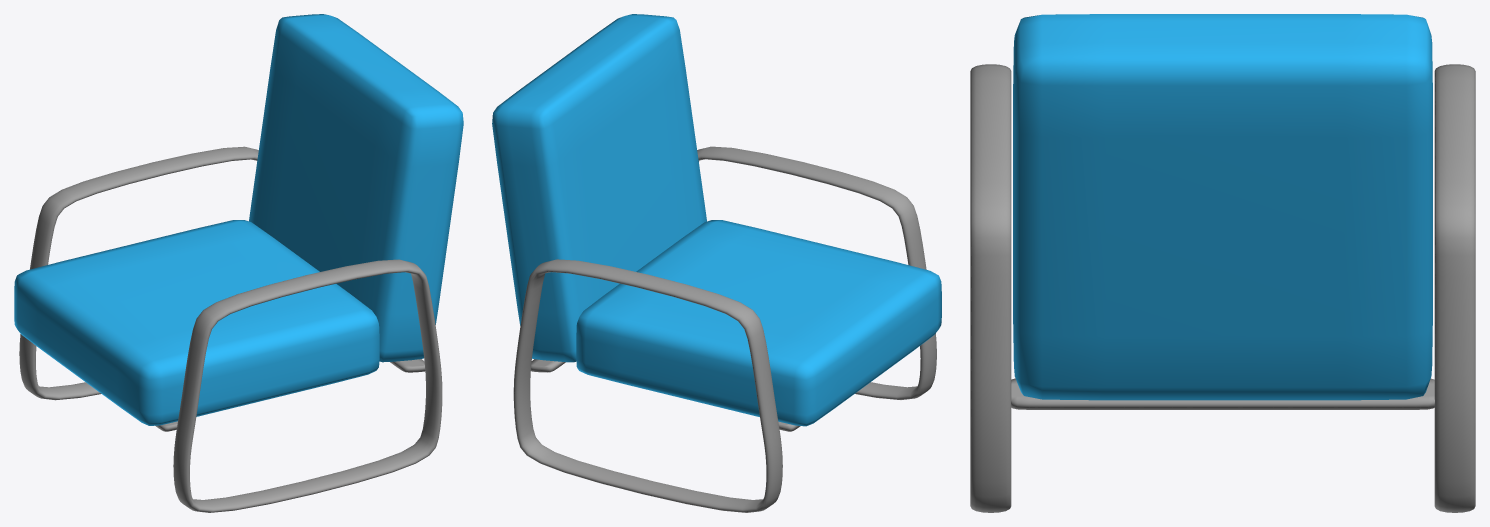
File: Bergere04.fbx
The picture shows the model from 3 angles, left to right: view 1: azimuth 30°, elevation 25°; view 2: azimuth 150°, elevation 25°; view 3: azimuth 270°, elevation 25°; orthographic projection. The views are drawn at different scales.
Visible parts, largest first — view 1: Bergere04; view 2: Bergere04; view 3: Bergere04.
Boxes of the visible parts, x1,y1,x2,y2 form: Bergere04: (14, 14, 463, 512); Bergere04: (492, 14, 941, 512); Bergere04: (970, 14, 1475, 512).
Size of the model in its own units: 0.5999 by 0.5407 by 0.6111.
